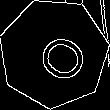O_NW: (22, 22, 86, 84)
